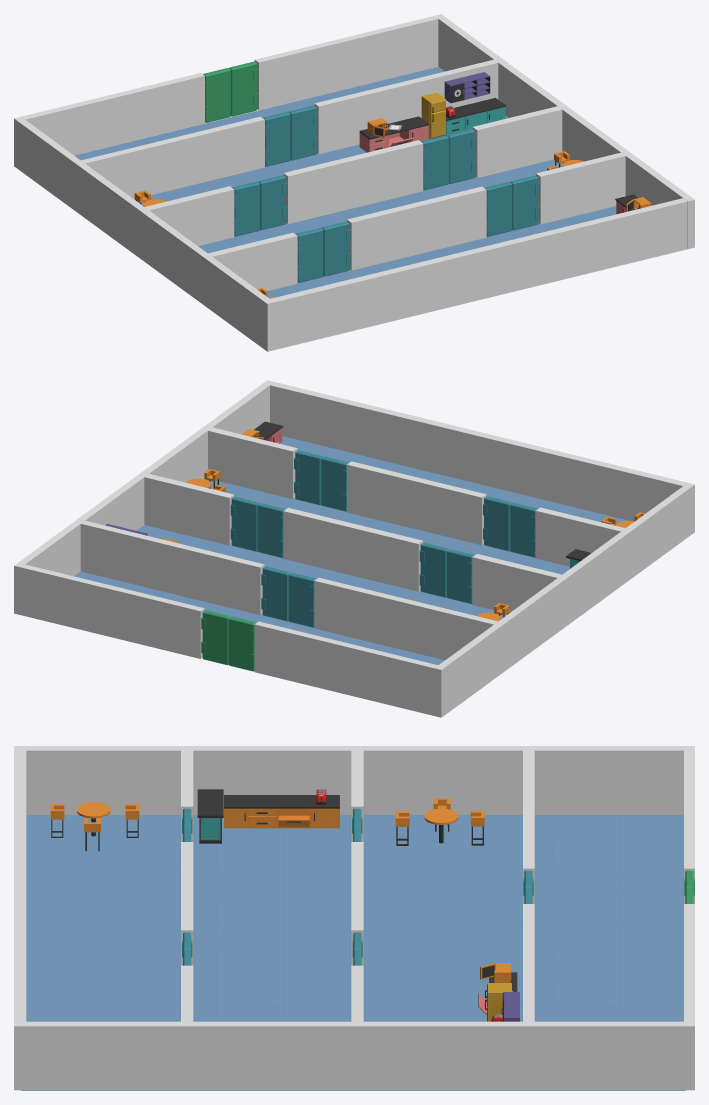
File: maps 01.fbx
The picture shows the model from 3 angles, top to bottom: view 1: azimuth 30°, elevation 25°; view 2: azimuth 150°, elevation 25°; view 3: azimuth 270°, elevation 25°; orthographic projection. The views are drawn at different scales.
Visible parts, largest first — view 1: frames_geo8, polySurface6 (×6), polySurface2 (×6), polySurface97, polySurface111, polySurface119, polySurface127; view 2: frames_geo8, polySurface6 (×6), polySurface2 (×6); view 3: frames_geo8, polySurface99, ban_ghe2, ban_ghe1, polySurface117, polySurface127, lo_vi_song1, polySurface119.
Boxes of the visible parts, x1,y1,x2,y2 form: frames_geo8: (14,14,694,351); polySurface6 (×6): (229,61,539,276); polySurface2 (×6): (203,68,512,282); polySurface97: (359,116,429,152); polySurface111: (446,98,505,135); polySurface119: (444,72,490,103); polySurface127: (421,92,445,138); frames_geo8: (14,380,694,717); polySurface6 (×6): (201,450,511,665); polySurface2 (×6): (228,456,537,671); frames_geo8: (14,746,694,1090); polySurface99: (224,795,339,828); ban_ghe2: (395,798,484,845); ban_ghe1: (50,802,139,851); polySurface117: (197,789,223,843); polySurface127: (485,983,511,1021); lo_vi_song1: (480,963,511,982); polySurface119: (501,992,519,1021).
Size of what is drawn, in the model's own units: 83.08 by 9.21 by 85.35.
Materials: 8 (8 with a texture image).
